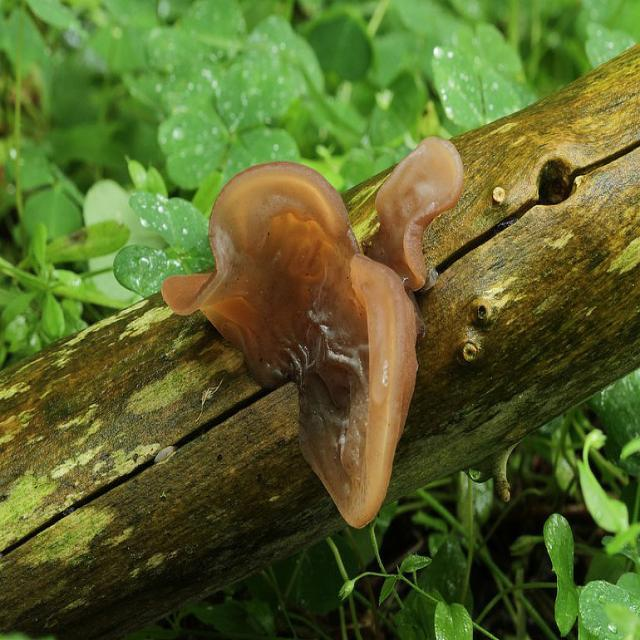Auricularia auricula: (165, 168, 417, 521), (380, 137, 461, 287)
